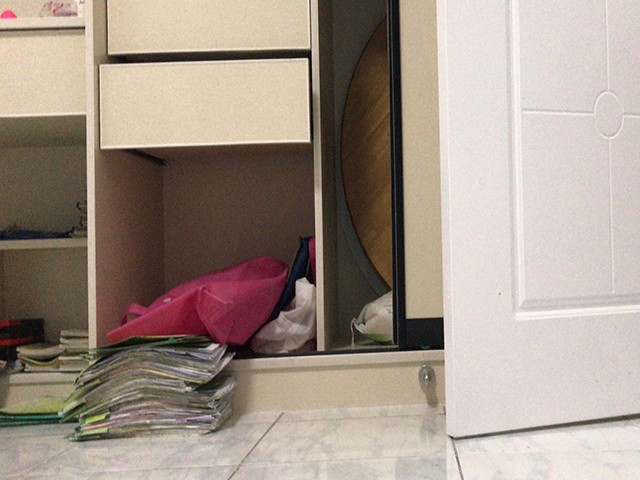book: (61, 333, 241, 442), (1, 394, 62, 427)
cabinet: (1, 16, 433, 413)
